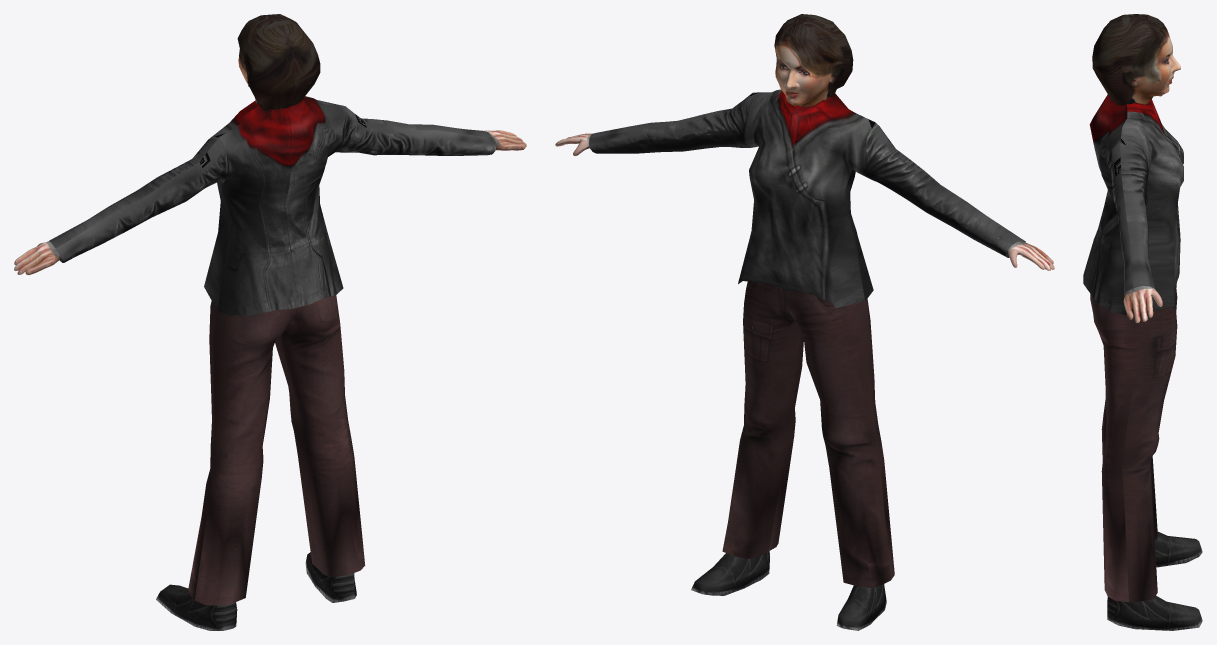
File: civ_female04.glb
3 views of the same model, side by side, from view 1: azimuth 30°, elevation 25°; view 2: azimuth 150°, elevation 25°; view 3: azimuth 270°, elevation 25° (orthographic). The views are drawn at different scales.
Visible parts, largest first — view 1: cwom0004-t; view 2: cwom0004-t; view 3: cwom0004-t.
Boxes of the visible parts, bbox=[...] form: cwom0004-t: bbox=[14, 14, 526, 630]; cwom0004-t: bbox=[555, 14, 1054, 630]; cwom0004-t: bbox=[1083, 14, 1202, 630].
Bounding box in the file's own units: 80.06 × 88.78 × 16.74.
Materials: 1 (1 with a texture image).
